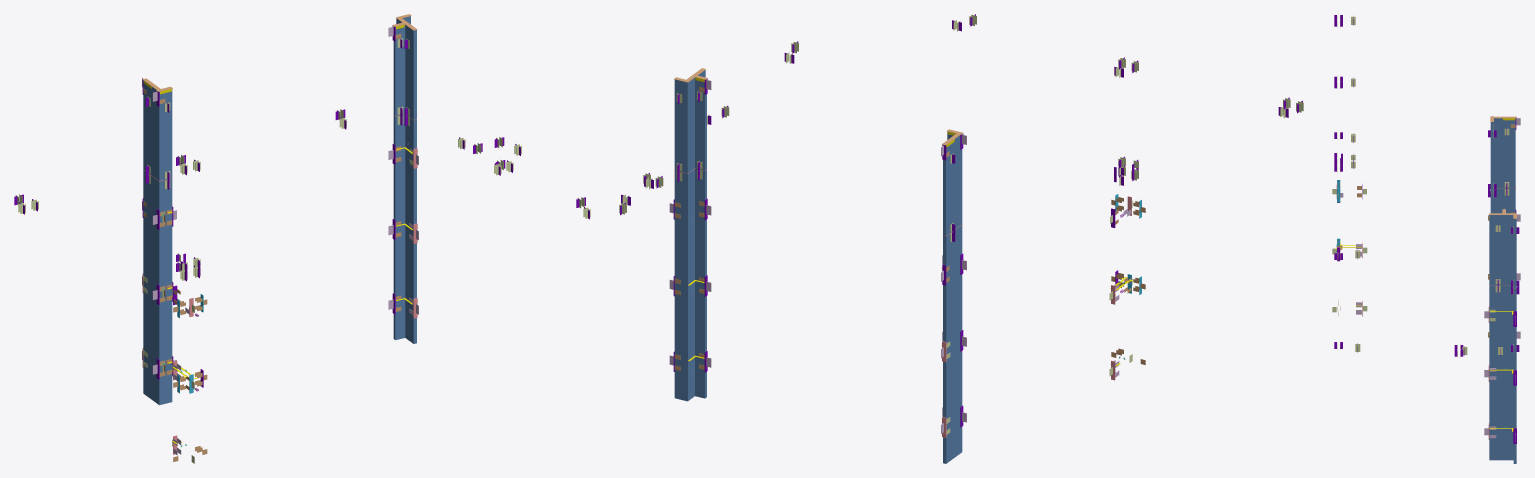
3 views of the same model, side by side, from view 1: azimuth 30°, elevation 25°; view 2: azimuth 150°, elevation 25°; view 3: azimuth 270°, elevation 25° (orthographic). The views are drawn at different scales.
Visible parts, largest first — view 1: 18-7GSQ[1Wc86T001_z34sCZ0sCJam], 18-7GSQ[1Wc86T001_mp4sCZ0sCJam], 18-7GSQ[1Wc86T0010yZ4sCZ0sCJOo], 18-7GSQ[1Wc86T0011bJ4sCZ0sCJOo], 18-7GSQ[1Wc86T00126p4sCZ0sCJOo], 18-7GSQ[1Wc86T001zd34sCZ0sCJam], 18-7GSQ[1Wc86T0012mZ4sCZ0sCJOo], 18-7GSQ[1Wc86T0012QJ4sCZ0sCJOo], 18-7GSQ[1Wc86T0012yZ4sCZ0sCJOo], 18-7GSQ[1Wc86T001_VZ4sCZ0sCJam], 18-7GSQ[1Wc86T00138Z4sCZ0sCJOo], 18-7GSQ[1Wc86T001_JZ4sCZ0sCJam] (+2 smaller); view 2: 18-7GSQ[1Wc86T0021FZ4sCZ0sCJam], 18-7GSQ[1Wc86T001_z34sCZ0sCJam], 18-7GSQ[1Wc86T00218J4sCZ0sCJam], 18-7GSQ[1Wc86T0020Y34sCZ0sCJam], 18-7GSQ[1Wc86T0013FZ4sCZ0sCJOo], 18-7GSQ[1Wc86T001_mp4sCZ0sCJam], 18-7GSQ[1Wc86T0012QJ4sCZ0sCJOo], 18-7GSQ[1Wc86T0020H34sCZ0sCJam], 18-7GSQ[1Wc86T0012mZ4sCZ0sCJOo]; view 3: 18-7GSQ[1Wc86T001_JZ4sCZ0sCJam], 18-7GSQ[1Wc86T00204p4sCZ0sCJam], 18-7GSQ[1Wc86T001_VZ4sCZ0sCJam], 18-7GSQ[1Wc86T0020H34sCZ0sCJam], 18-7GSQ[1Wc86T001zd34sCZ0sCJam], 18-7GSQ[1Wc86T001$fZ4sCZ0sCJam], 18-7GSQ[1Wc86T0020Y34sCZ0sCJam], 18-8GSQ[1WqzKM000o3J4sCZGrCJWr], 18-8GSQ[1WqzKM000jnJ4sCZGrCJWn], 18-8GSQ[1WqzKM000oHJ4sCZGrCJWr], 18-8GSQ[1WqzKM000nT34sCZGrCJWr], 18-8GSQ[1WqzKM000k9J4sCZGrCJWn] (+8 smaller).
Part boxes in pixels (x1,y1,x2,y2): 18-7GSQ[1Wc86T001_z34sCZ0sCJam]: (393, 115, 400, 340); 18-7GSQ[1Wc86T001_mp4sCZ0sCJam]: (400, 114, 405, 338); 18-7GSQ[1Wc86T0010yZ4sCZ0sCJOo]: (167, 178, 172, 403); 18-7GSQ[1Wc86T0011bJ4sCZ0sCJOo]: (162, 180, 167, 404); 18-7GSQ[1Wc86T00126p4sCZ0sCJOo]: (157, 180, 162, 405); 18-7GSQ[1Wc86T001zd34sCZ0sCJam]: (411, 119, 416, 343); 18-7GSQ[1Wc86T0012mZ4sCZ0sCJOo]: (151, 176, 154, 401); 18-7GSQ[1Wc86T0012QJ4sCZ0sCJOo]: (154, 178, 157, 403); 18-7GSQ[1Wc86T0012yZ4sCZ0sCJOo]: (149, 174, 151, 399); 18-7GSQ[1Wc86T001_VZ4sCZ0sCJam]: (405, 116, 407, 339); 18-7GSQ[1Wc86T00138Z4sCZ0sCJOo]: (146, 183, 148, 397); 18-7GSQ[1Wc86T001_JZ4sCZ0sCJam]: (408, 117, 410, 341); 18-7GSQ[1Wc86T0021FZ4sCZ0sCJam]: (684, 173, 689, 401); 18-7GSQ[1Wc86T001_z34sCZ0sCJam]: (700, 170, 706, 398); 18-7GSQ[1Wc86T00218J4sCZ0sCJam]: (679, 172, 684, 400); 18-7GSQ[1Wc86T0020Y34sCZ0sCJam]: (674, 171, 679, 399); 18-7GSQ[1Wc86T0013FZ4sCZ0sCJOo]: (943, 235, 948, 463); 18-7GSQ[1Wc86T001_mp4sCZ0sCJam]: (695, 169, 699, 397); 18-7GSQ[1Wc86T0012QJ4sCZ0sCJOo]: (957, 226, 960, 454); 18-7GSQ[1Wc86T0020H34sCZ0sCJam]: (689, 171, 692, 399); 18-7GSQ[1Wc86T0012mZ4sCZ0sCJOo]: (955, 228, 957, 457); 18-7GSQ[1Wc86T001_JZ4sCZ0sCJam]: (1493, 285, 1498, 460); 18-7GSQ[1Wc86T00204p4sCZ0sCJam]: (1505, 285, 1509, 460); 18-7GSQ[1Wc86T001_VZ4sCZ0sCJam]: (1498, 285, 1502, 460); 18-7GSQ[1Wc86T0020H34sCZ0sCJam]: (1509, 285, 1513, 460); 18-7GSQ[1Wc86T001zd34sCZ0sCJam]: (1489, 285, 1493, 460); 18-7GSQ[1Wc86T001$fZ4sCZ0sCJam]: (1502, 285, 1505, 460); 18-7GSQ[1Wc86T0020Y34sCZ0sCJam]: (1513, 289, 1516, 463); 18-8GSQ[1WqzKM000o3J4sCZGrCJWr]: (1493, 215, 1498, 284); 18-8GSQ[1WqzKM000jnJ4sCZGrCJWn]: (1498, 118, 1502, 188); 18-8GSQ[1WqzKM000oHJ4sCZGrCJWr]: (1489, 215, 1493, 284); 18-8GSQ[1WqzKM000nT34sCZGrCJWr]: (1505, 215, 1509, 284); 18-8GSQ[1WqzKM000k9J4sCZGrCJWn]: (1511, 118, 1515, 188).
Bounding box in the file's own units: 23.61 × 13.1 × 8.51.
